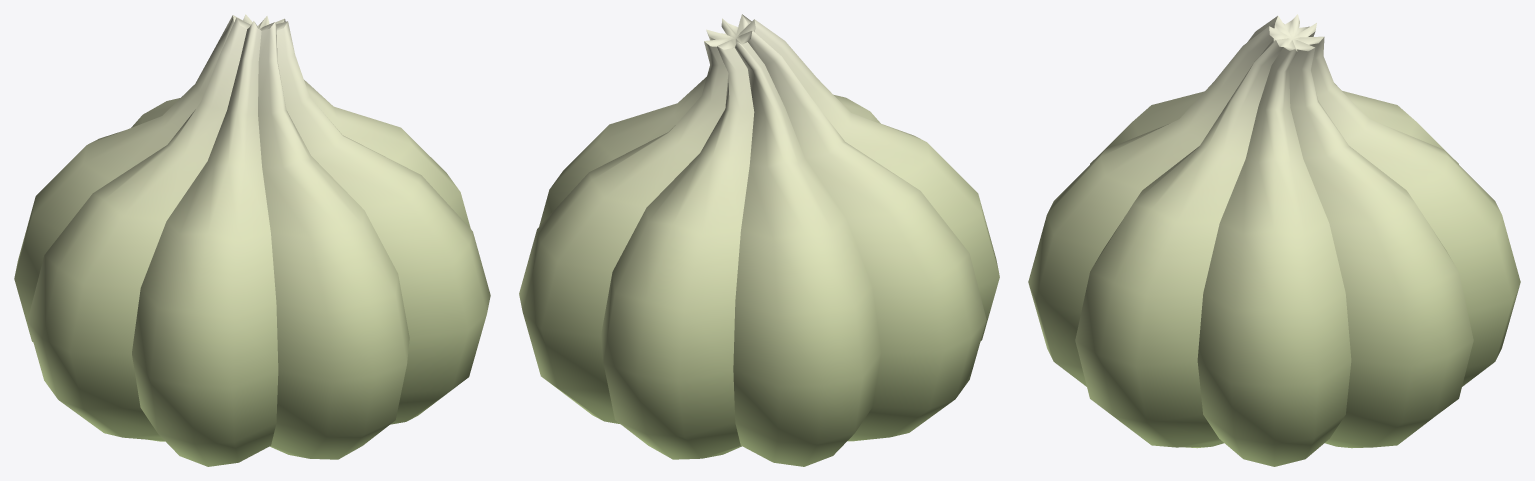
File: Garlic_01.glb
3 views of the same model, side by side, from view 1: azimuth 30°, elevation 25°; view 2: azimuth 150°, elevation 25°; view 3: azimuth 270°, elevation 25° (orthographic).
Visible parts, largest first — view 1: Garlic_01; view 2: Garlic_01; view 3: Garlic_01.
Boxes of the visible parts, left/top/right/bottom form: Garlic_01: left=14, top=14, right=490, bottom=466; Garlic_01: left=519, top=14, right=999, bottom=466; Garlic_01: left=1028, top=14, right=1520, bottom=466.
Bounding box in the file's own units: 0.2066 × 0.1918 × 0.2066.
1 material, 1 textured.
